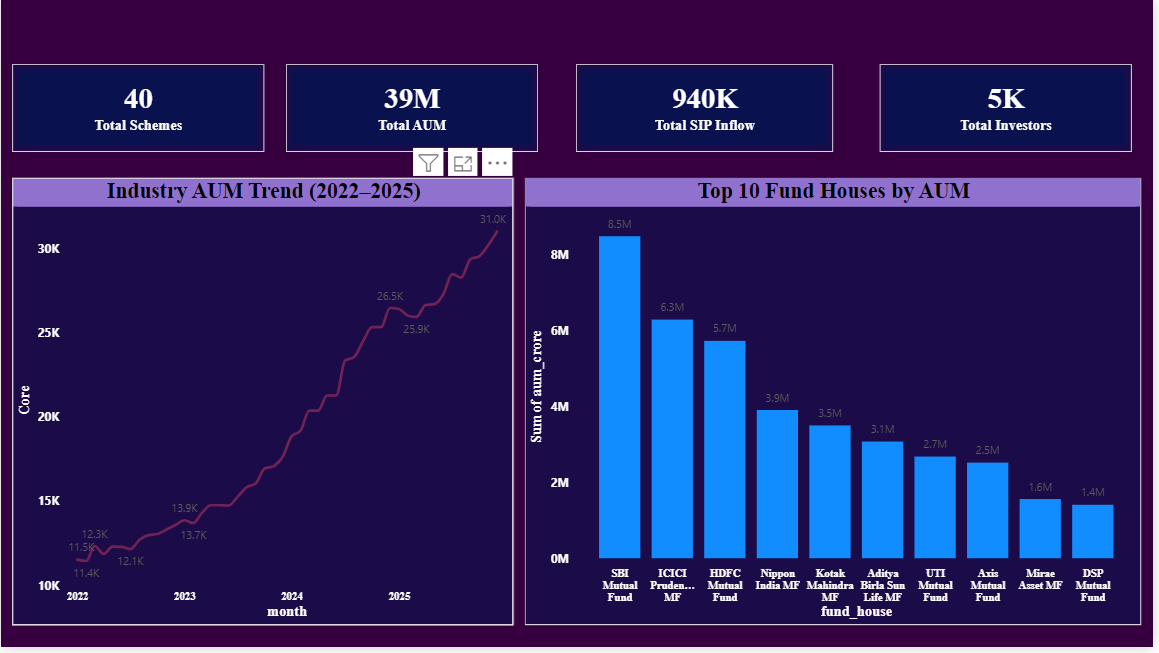

This screenshot's page, from the dashboard's own definition file:
{"tool":"powerbi","page":{"name":"Industry Overview","canvas":[1280,720],"ordinal":0},"visuals":[{"type":"cardVisual","fields":{"Data":["01_fund_master.Total SIP Inflow"]},"box":[639.5,72.7,285.4,97.4],"z":0},{"type":"cardVisual","fields":{"Data":["01_fund_master.Total Investors"]},"box":[977,72.7,279.9,97.4],"z":1000},{"type":"cardVisual","fields":{"Data":["01_fund_master.Total AUM"]},"box":[317,72.7,279.9,97.4],"z":2000},{"type":"cardVisual","fields":{"Data":["01_fund_master.Total Schemes"]},"box":[12.3,72.7,279.9,97.4],"z":3000},{"type":"lineChart","title":"Industry AUM Trend (2022–2025)","fields":{"Category":["04_monthly_sip_inflows.month.Variation.Date Hierarchy.Month"],"Y":["Sum(04_monthly_sip_inflows.sip_inflow_crore)"]},"box":[12.3,199,557.1,496.7],"z":4000},{"type":"columnChart","title":"Top 10 Fund Houses by AUM","fields":{"Category":["03_aum_by_fund_house.fund_house"],"Y":["Sum(03_aum_by_fund_house.aum_crore)"]},"box":[581.8,199,684.7,496.7],"z":5000}]}

Visuals, with their boxes in screenshot pixels (x1, y1, x2, y2), scaled from the page's 1280x720 canvas onto the 1159x653 screenshot:
cardVisual - 01_fund_master.Total SIP Inflow: bbox(579, 66, 837, 154)
cardVisual - 01_fund_master.Total Investors: bbox(885, 66, 1138, 154)
cardVisual - 01_fund_master.Total AUM: bbox(287, 66, 540, 154)
cardVisual - 01_fund_master.Total Schemes: bbox(11, 66, 265, 154)
"Industry AUM Trend (2022–2025)" lineChart: bbox(11, 180, 516, 631)
"Top 10 Fund Houses by AUM" columnChart: bbox(527, 180, 1147, 631)
